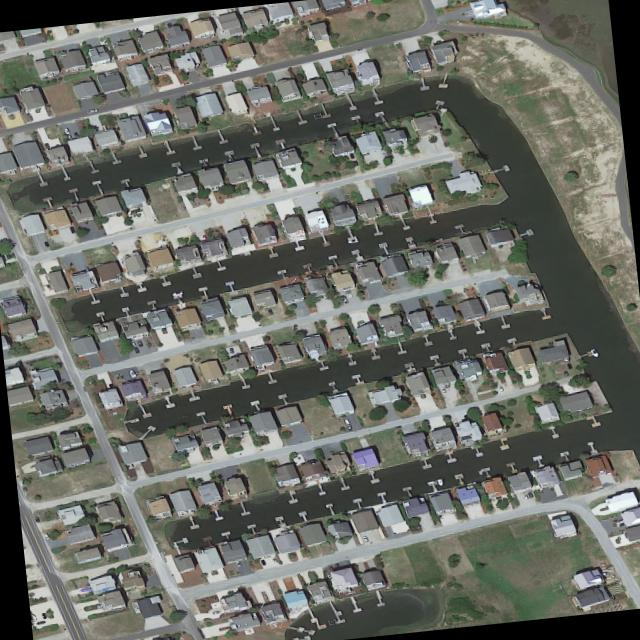ship: (588, 348, 598, 358), (127, 368, 135, 378), (170, 291, 183, 296), (435, 478, 443, 486)
small-vehicle: (85, 108, 97, 113), (525, 490, 532, 498), (132, 346, 139, 354), (233, 560, 241, 567), (67, 226, 74, 234), (62, 127, 70, 134), (438, 387, 445, 394), (42, 533, 49, 540), (258, 559, 265, 565), (42, 241, 49, 247), (361, 535, 367, 542), (129, 340, 135, 347), (333, 563, 340, 569), (341, 297, 347, 304), (200, 234, 207, 240), (72, 131, 78, 138), (210, 611, 220, 615), (598, 572, 608, 576), (496, 385, 502, 391), (42, 142, 48, 148), (270, 557, 276, 563), (351, 160, 357, 166), (82, 266, 88, 272), (65, 134, 71, 140), (328, 565, 333, 572), (267, 308, 272, 315), (522, 494, 527, 500), (346, 424, 351, 430), (136, 340, 141, 346), (566, 363, 571, 369), (348, 153, 353, 159), (33, 516, 38, 522), (228, 347, 232, 354), (18, 480, 23, 485), (22, 486, 26, 492), (563, 370, 567, 375)
